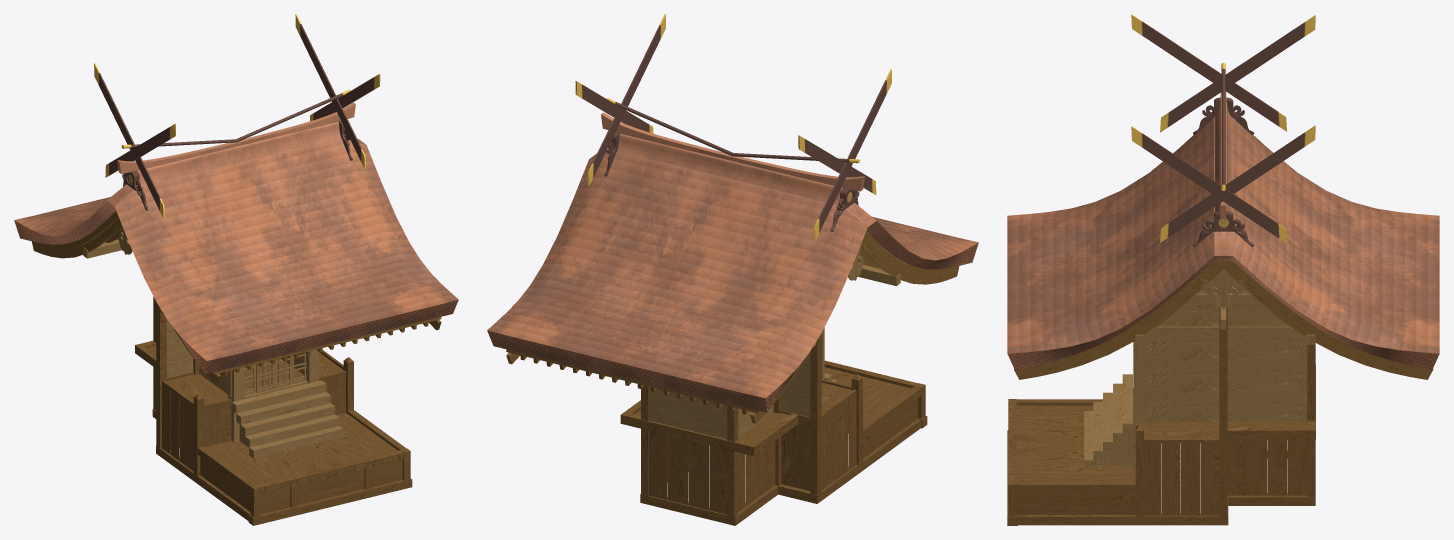
Rendered from Yashiro_A.fbx.
The picture shows the model from 3 angles, left to right: view 1: azimuth 30°, elevation 25°; view 2: azimuth 150°, elevation 25°; view 3: azimuth 270°, elevation 25°; orthographic projection. The views are drawn at different scales.
Parts seen in each view (by area): view 1: K_Roof.003; view 2: K_Roof.003; view 3: K_Roof.003.
Boxes of the visible parts, x1,y1,x2,y2 form: K_Roof.003: [14, 14, 458, 525]; K_Roof.003: [487, 14, 978, 525]; K_Roof.003: [1007, 14, 1439, 525].
Bounding box in the file's own units: 3.04 × 4.23 × 4.02.
Materials: 1 (1 with a texture image).
